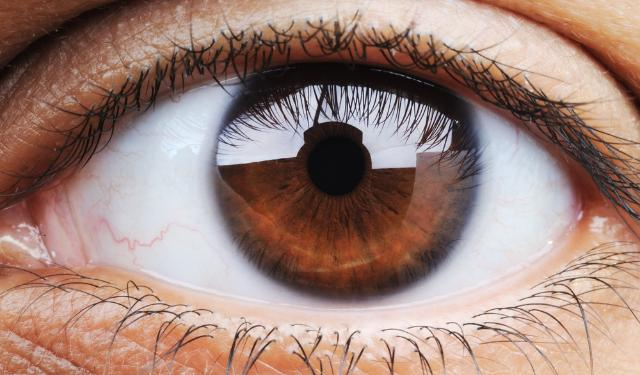eye: (209, 48, 483, 302)
